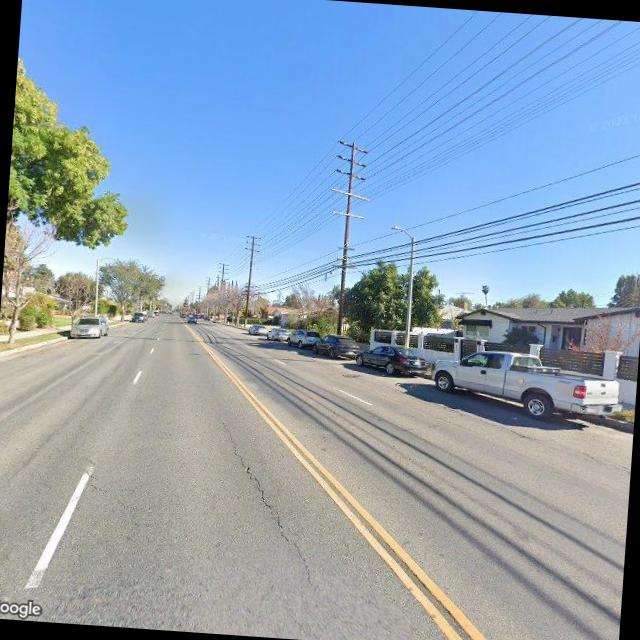pothole: (206, 418, 326, 581), (77, 456, 109, 494)
